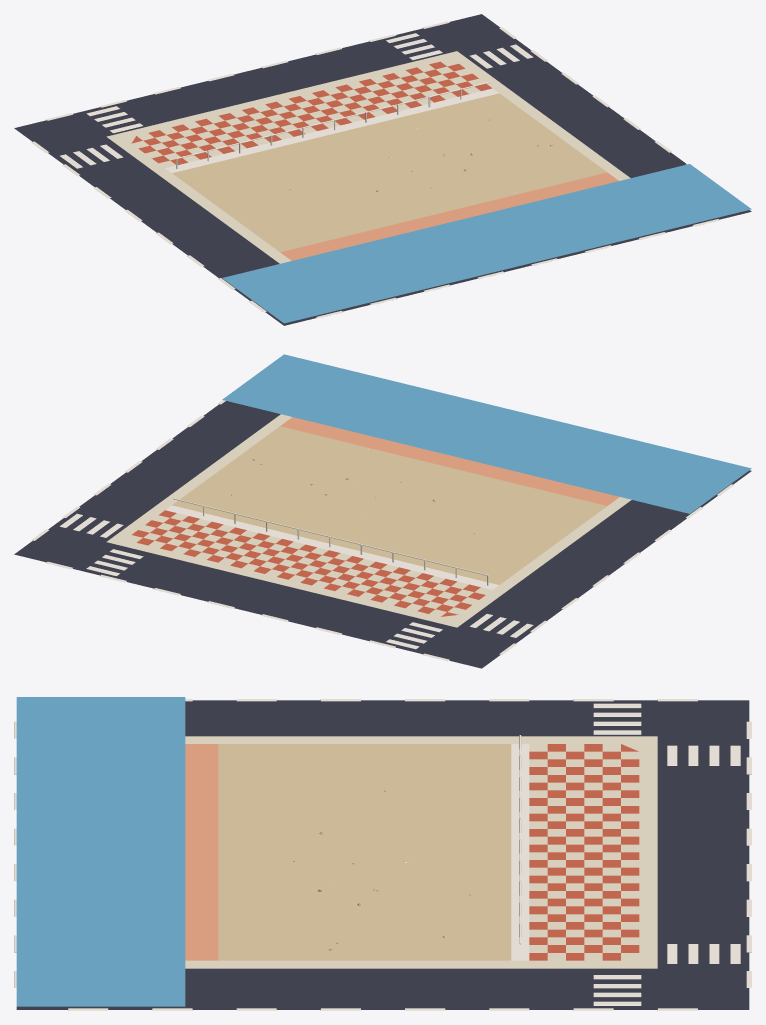
The model's file is tile_beach.glb.
The picture shows the model from 3 angles, top to bottom: view 1: azimuth 30°, elevation 25°; view 2: azimuth 150°, elevation 25°; view 3: azimuth 270°, elevation 25°; orthographic projection. The views are drawn at different scales.
Parts seen in each view (by area): view 1: tile_beach; view 2: tile_beach; view 3: tile_beach.
Boxes of the visible parts, bbox=[...] form: tile_beach: bbox=[14, 14, 751, 325]; tile_beach: bbox=[14, 354, 751, 668]; tile_beach: bbox=[14, 697, 751, 1010].
Size of the model in its own units: 40.3 by 1.04 by 40.3.
Materials: 1 (1 with a texture image).
